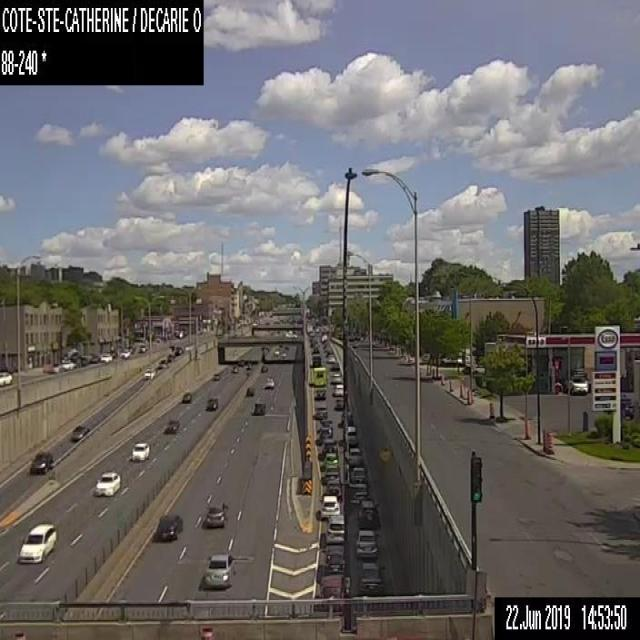construction: (545, 431, 552, 453), (524, 418, 530, 438), (439, 371, 444, 385), (489, 401, 493, 418), (466, 387, 470, 403), (458, 382, 462, 397), (448, 378, 452, 392)
vehicle: (18, 522, 56, 563), (204, 553, 236, 589), (315, 573, 343, 612), (320, 546, 348, 576), (355, 562, 385, 588), (155, 513, 182, 541), (356, 500, 380, 529), (355, 529, 379, 558), (94, 471, 120, 496), (203, 500, 226, 527), (325, 514, 344, 544), (28, 451, 52, 474), (318, 494, 340, 518), (325, 479, 343, 500), (568, 375, 587, 394), (131, 441, 149, 461), (349, 482, 367, 502), (70, 424, 89, 441), (321, 438, 338, 457), (324, 464, 340, 482), (312, 366, 326, 386), (350, 467, 366, 482), (320, 418, 333, 436), (345, 426, 357, 444), (164, 419, 178, 434), (323, 452, 338, 466), (348, 448, 360, 465), (341, 407, 353, 424), (319, 426, 331, 443), (252, 401, 266, 415), (0, 371, 13, 385), (313, 387, 326, 400), (206, 396, 217, 410), (316, 404, 326, 419), (61, 358, 74, 369), (311, 353, 321, 366), (264, 376, 274, 388), (181, 391, 191, 403), (144, 367, 154, 379), (334, 384, 344, 395), (335, 396, 344, 408), (285, 329, 297, 338), (100, 353, 111, 362), (173, 344, 182, 354), (89, 354, 100, 362), (246, 385, 254, 396), (332, 373, 341, 382), (120, 349, 130, 357), (260, 363, 268, 372), (211, 372, 220, 380), (157, 358, 165, 367), (312, 343, 319, 352), (166, 353, 173, 361), (332, 362, 340, 369), (110, 350, 117, 357), (231, 365, 238, 372), (138, 345, 146, 351), (327, 354, 333, 361), (281, 352, 286, 358), (274, 350, 278, 356)
